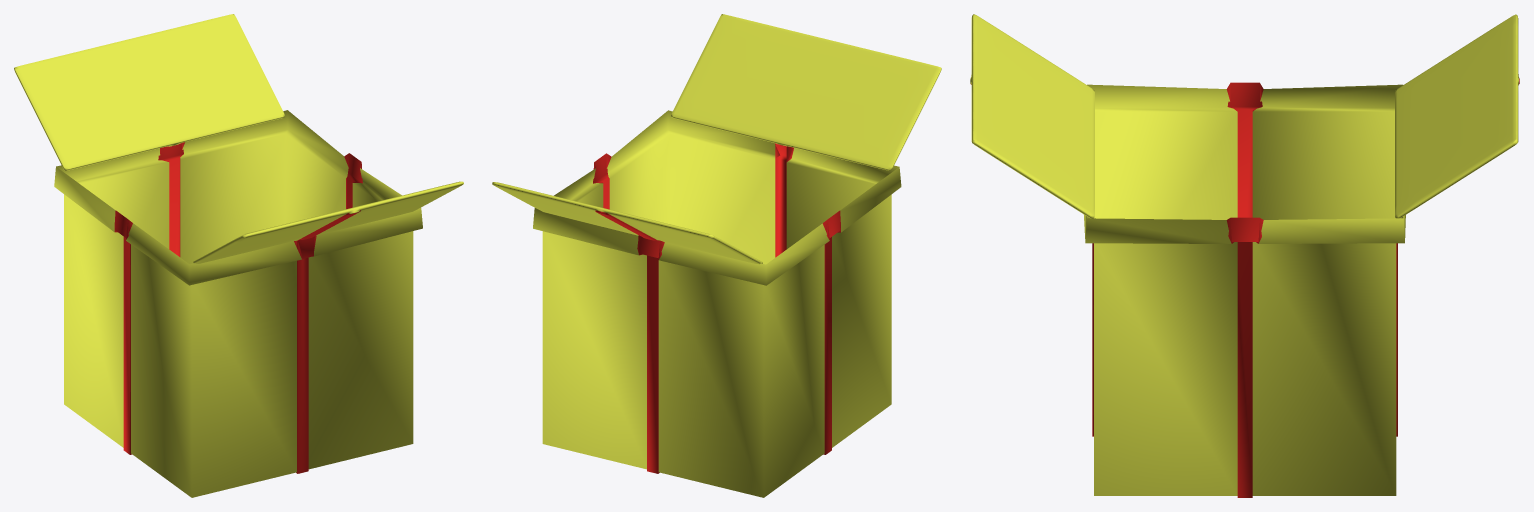
Rendered from GiftBox_Opened.fbx.
3 views of the same model, side by side, from view 1: azimuth 30°, elevation 25°; view 2: azimuth 150°, elevation 25°; view 3: azimuth 270°, elevation 25° (orthographic). The views are drawn at different scales.
Visible parts, largest first — view 1: Cube, Cube.002, Cube.001; view 2: Cube, Cube.001, Cube.002; view 3: Cube, Cube.001, Cube.002.
Boxes of the visible parts, x1,y1,x2,y2 form: Cube: [54, 110, 422, 497]; Cube.002: [14, 14, 284, 170]; Cube.001: [193, 181, 463, 263]; Cube: [533, 110, 901, 497]; Cube.001: [671, 14, 941, 170]; Cube.002: [492, 182, 762, 264]; Cube: [1084, 82, 1405, 497]; Cube.001: [970, 14, 1094, 218]; Cube.002: [1395, 14, 1519, 218].
Size of the model in its own units: 26.76 by 32.58 by 45.42.
